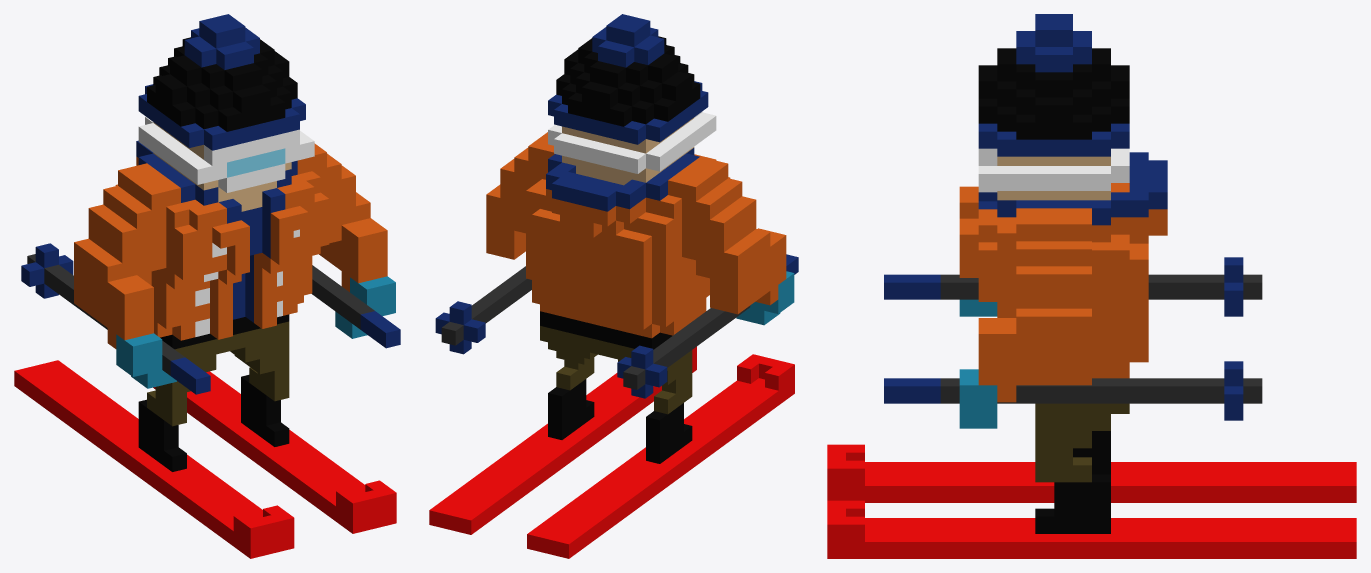
Rendered from Saut_2_Frame_11.obj.
3 views of the same model, side by side, from view 1: azimuth 30°, elevation 25°; view 2: azimuth 150°, elevation 25°; view 3: azimuth 270°, elevation 25° (orthographic). The views are drawn at different scales.
Size of the model in its own units: 18 by 29 by 28.
Materials: 1 (1 with a texture image).
